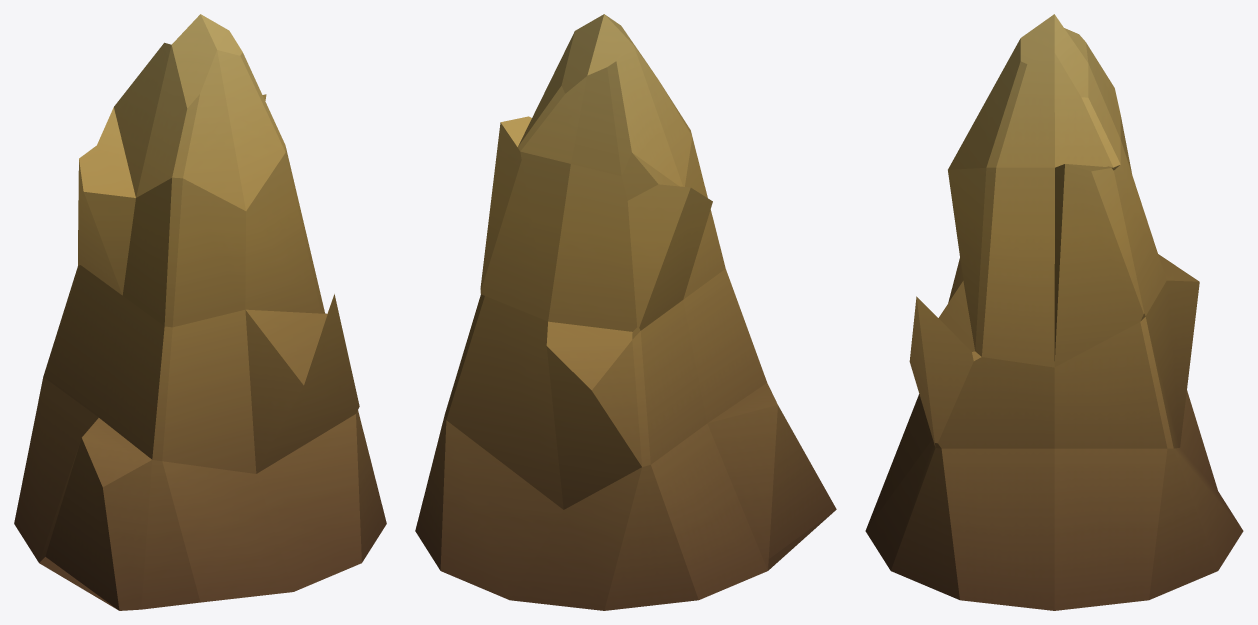
Rendered from RockSkill_R.fbx.
3 views of the same model, side by side, from view 1: azimuth 30°, elevation 25°; view 2: azimuth 150°, elevation 25°; view 3: azimuth 270°, elevation 25° (orthographic).
Parts seen in each view (by area): view 1: Cube.001; view 2: Cube.001; view 3: Cube.001.
Part boxes in pixels (left/top/right/bottom): Cube.001: left=14, top=14, right=386, bottom=610; Cube.001: left=415, top=14, right=836, bottom=610; Cube.001: left=865, top=14, right=1243, bottom=610.
Size of the model in its own units: 230 by 346 by 230.
